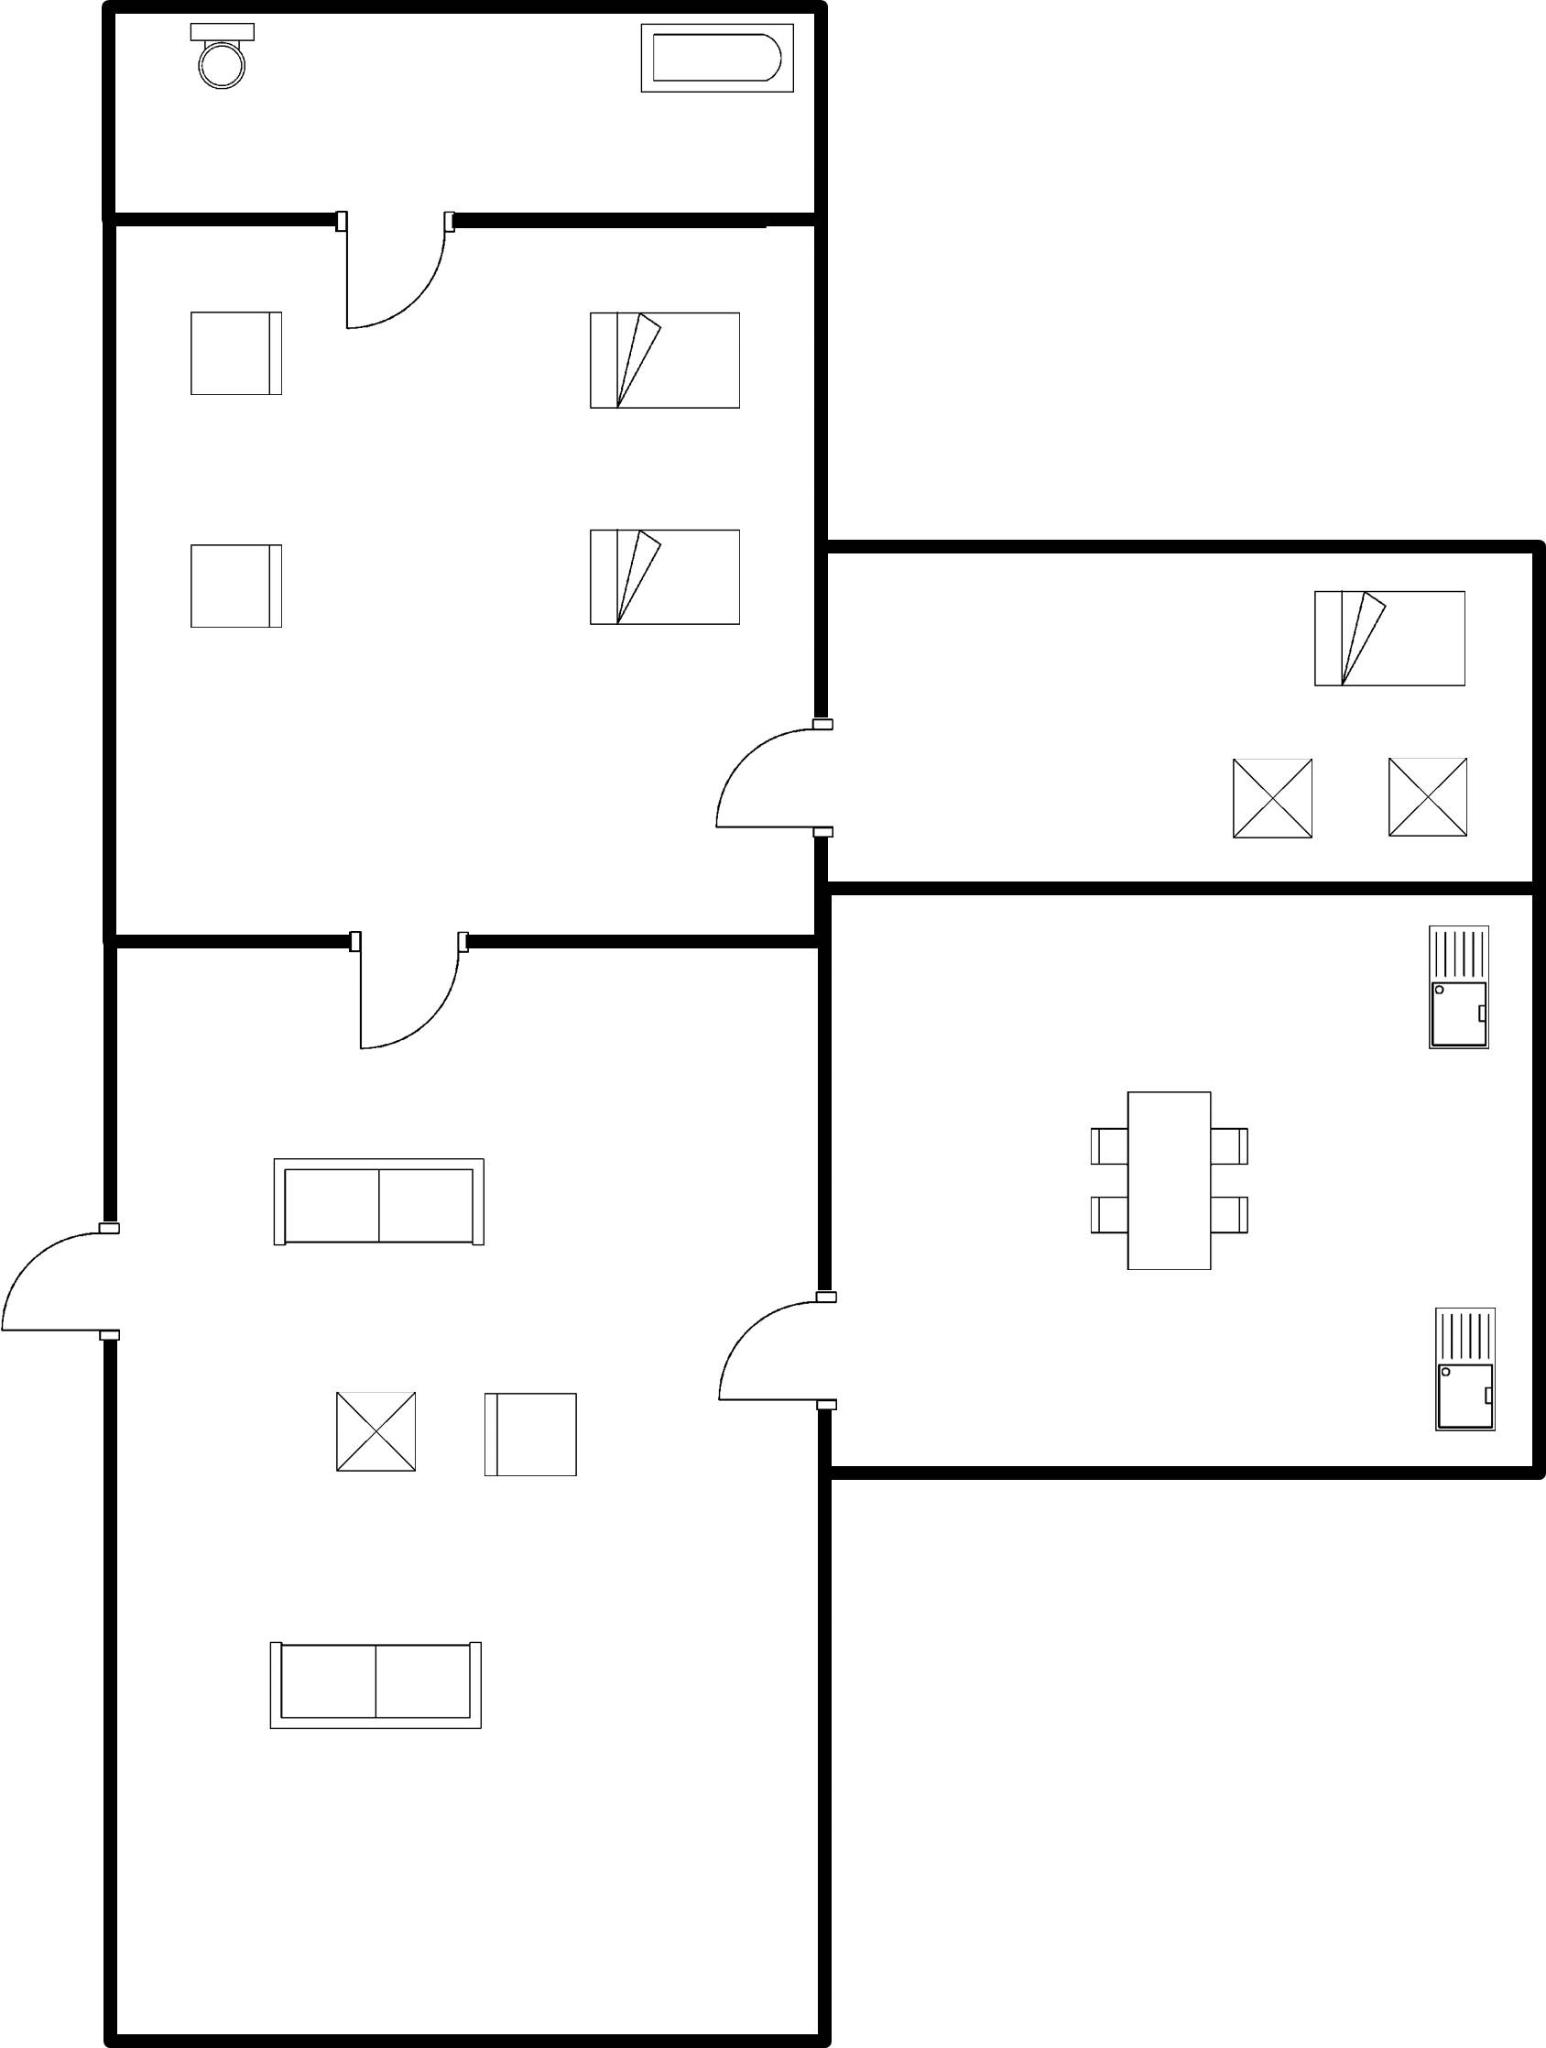bed: (1302, 578, 1488, 703), (570, 299, 754, 424), (577, 513, 752, 642)
dining_table: (1077, 1074, 1254, 1280)
sink: (1418, 1291, 1507, 1441), (1413, 910, 1499, 1064)
sofa: (257, 1629, 495, 1746), (258, 1147, 497, 1259), (179, 528, 302, 643), (174, 296, 294, 406)
toilet: (180, 13, 268, 99)
tub: (632, 16, 805, 106)
